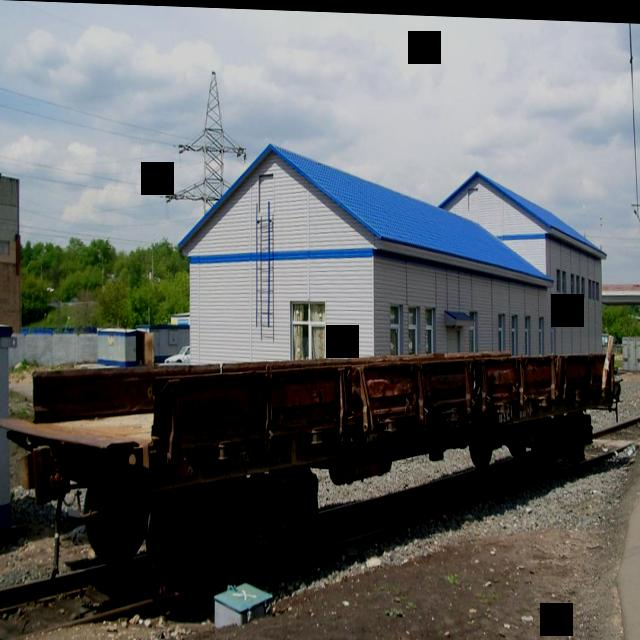flatcar: (10, 316, 618, 607)
